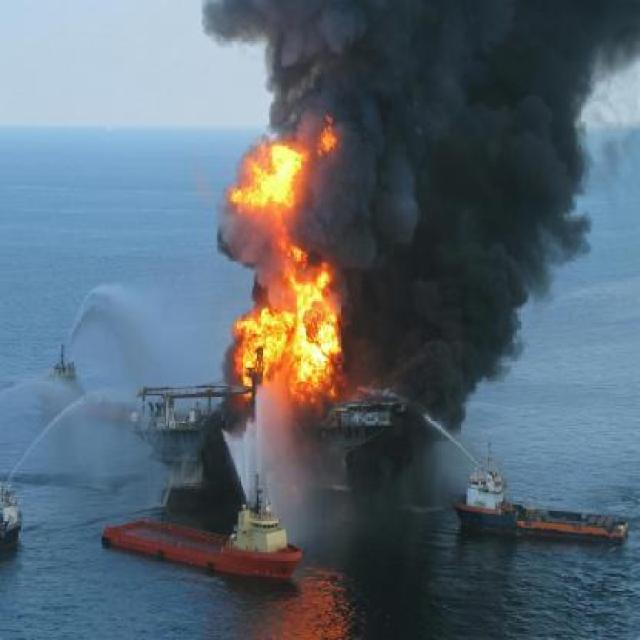Fire: (186, 128, 429, 433)
Smoke: (364, 26, 598, 260)
